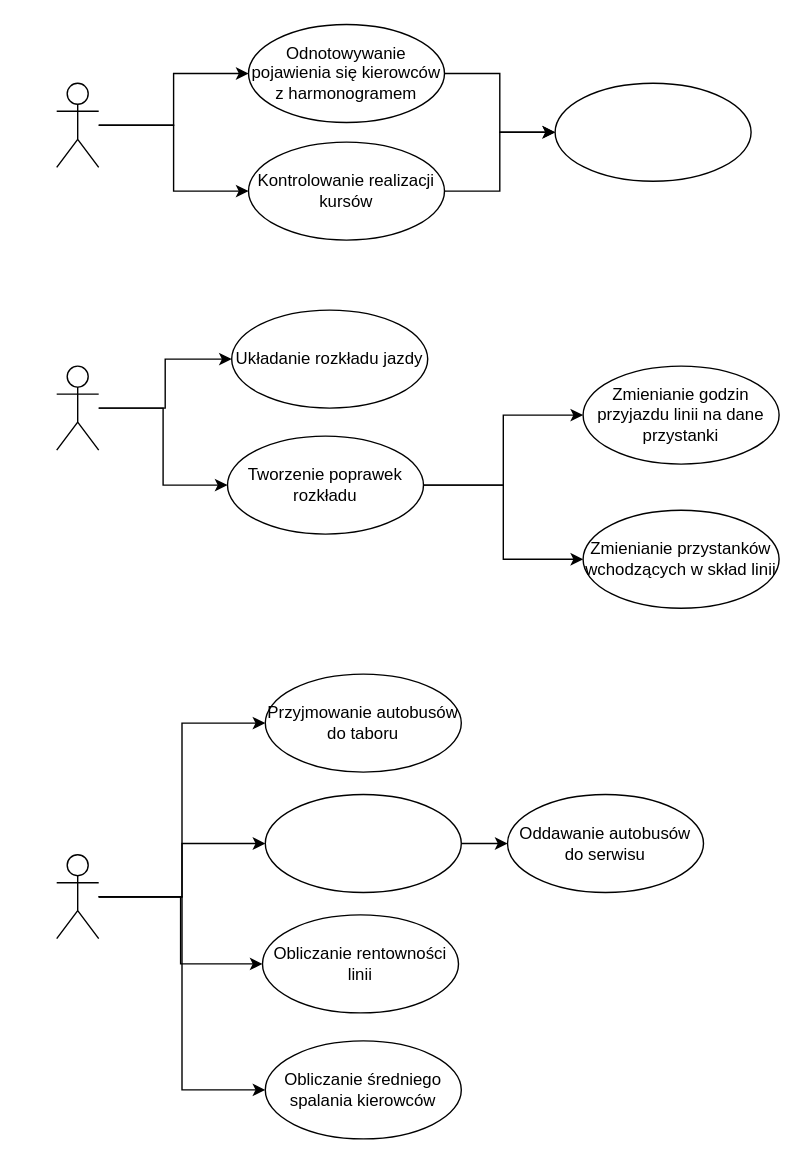
Image size: 804x1163. Some labels were removed from this diagram. Here are the shapes that lost their labels. From the top down, the box of each, then its label:
(55, 82, 99, 167): Dyspozytor
(554, 82, 751, 181): Oznaczanie spóźnień
(55, 365, 99, 450): Planista
(264, 793, 461, 892): Zmienianie stanu autobusów
(55, 853, 99, 939): Zarządca flotą
